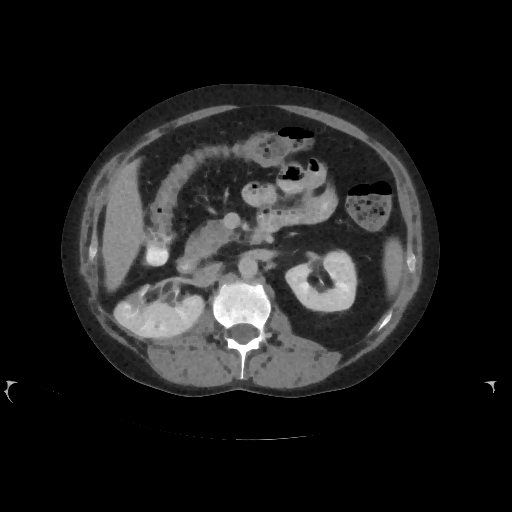Lesion: (119, 295, 143, 312)
